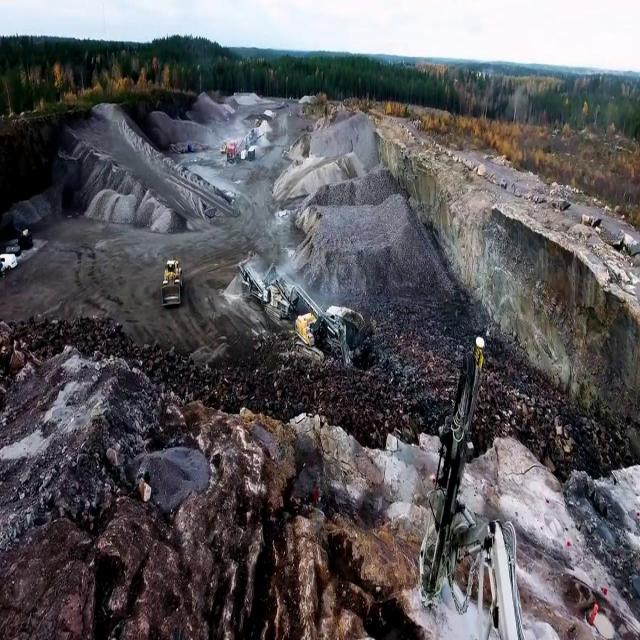Excavator: (293, 312, 351, 372)
Loader: (160, 260, 183, 303)
